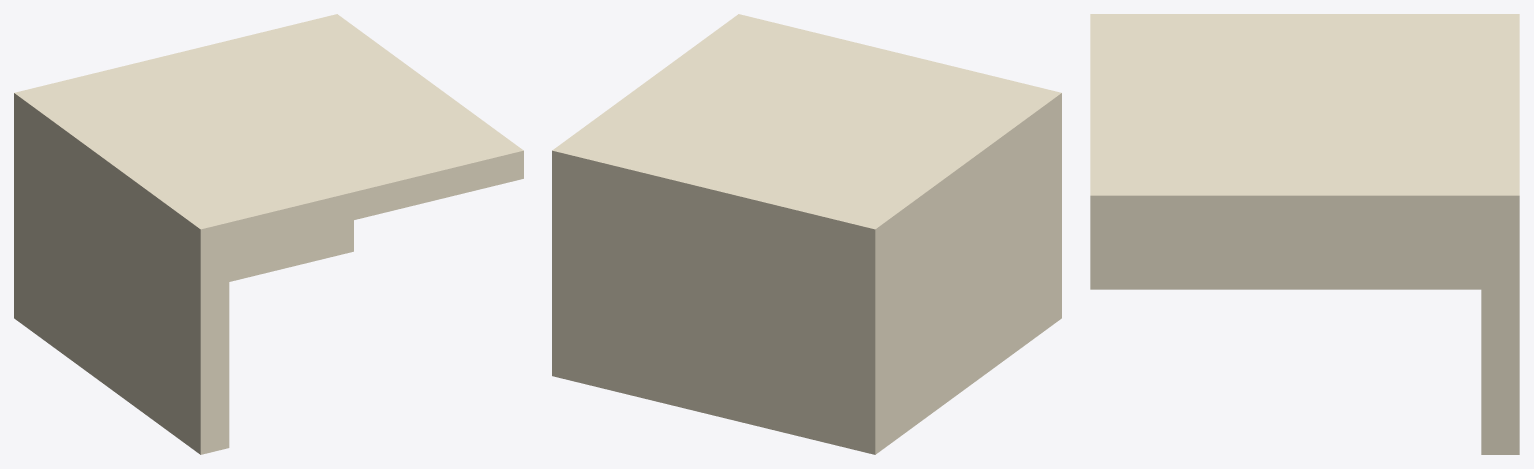
The model's file is original-52.obj.
3 renders of one model, left to right at view 1: azimuth 30°, elevation 25°; view 2: azimuth 150°, elevation 25°; view 3: azimuth 270°, elevation 25°, orthographic. The views are drawn at different scales.
Visible parts, largest first — view 1: #ID202; view 2: #ID202; view 3: #ID202.
Part boxes in pixels (x1,y1,x2,y2): #ID202: (14,14,523,454); #ID202: (552,14,1061,454); #ID202: (1090,14,1519,454).
Size of the model in its own units: 0.1148 by 0.0766 by 0.1148.
